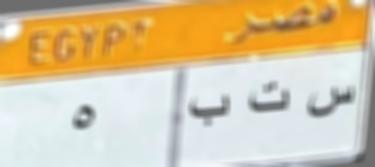5: (59, 98, 108, 142)
baa: (188, 92, 233, 130)
seen: (304, 78, 360, 126)
taa: (244, 76, 294, 122)
